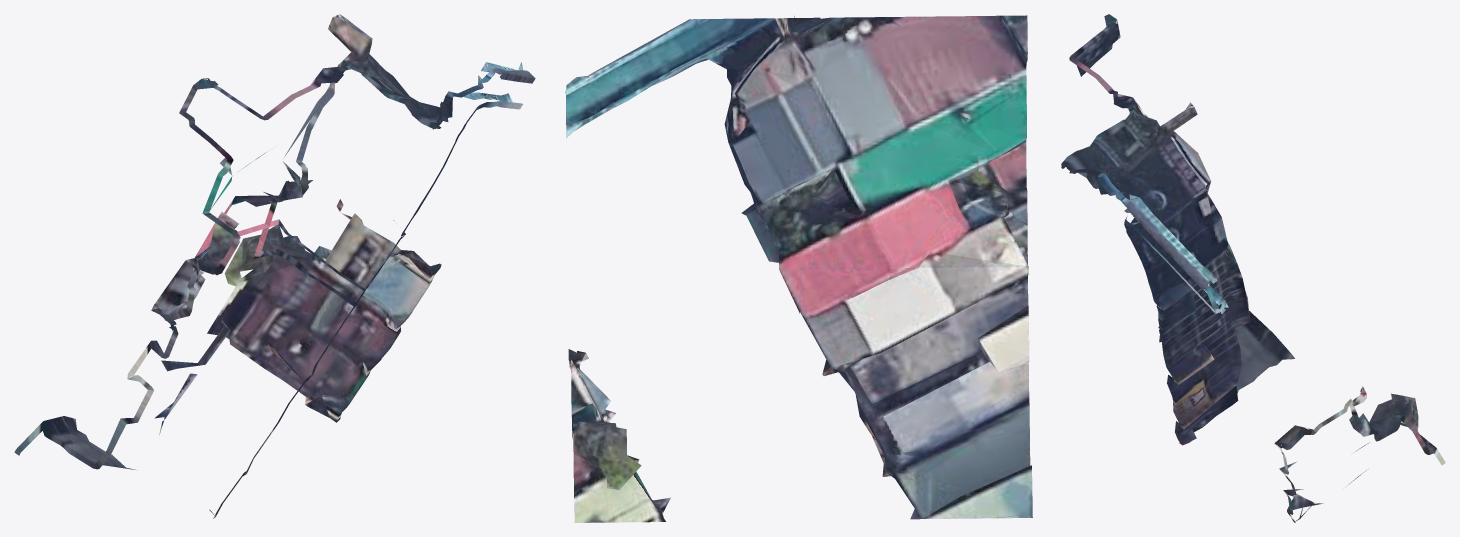
3 renders of one model, left to right at view 1: azimuth 30°, elevation 25°; view 2: azimuth 150°, elevation 25°; view 3: azimuth 270°, elevation 25°, orthographic. The views are drawn at different scales.
Size of the model in its own units: 43.59 by 40.95 by 35.15.
Materials: 1 (1 with a texture image).
